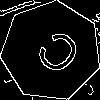C: (26, 26, 85, 85)
